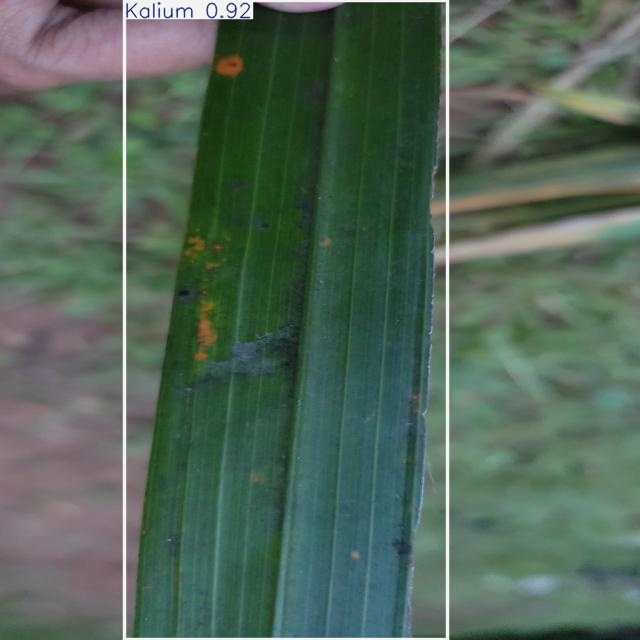Kalium: (124, 0, 447, 640)
